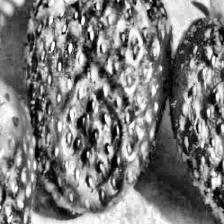Anthracnose Fruit Rot: (49, 71, 128, 193), (182, 45, 224, 189), (0, 70, 23, 191)
